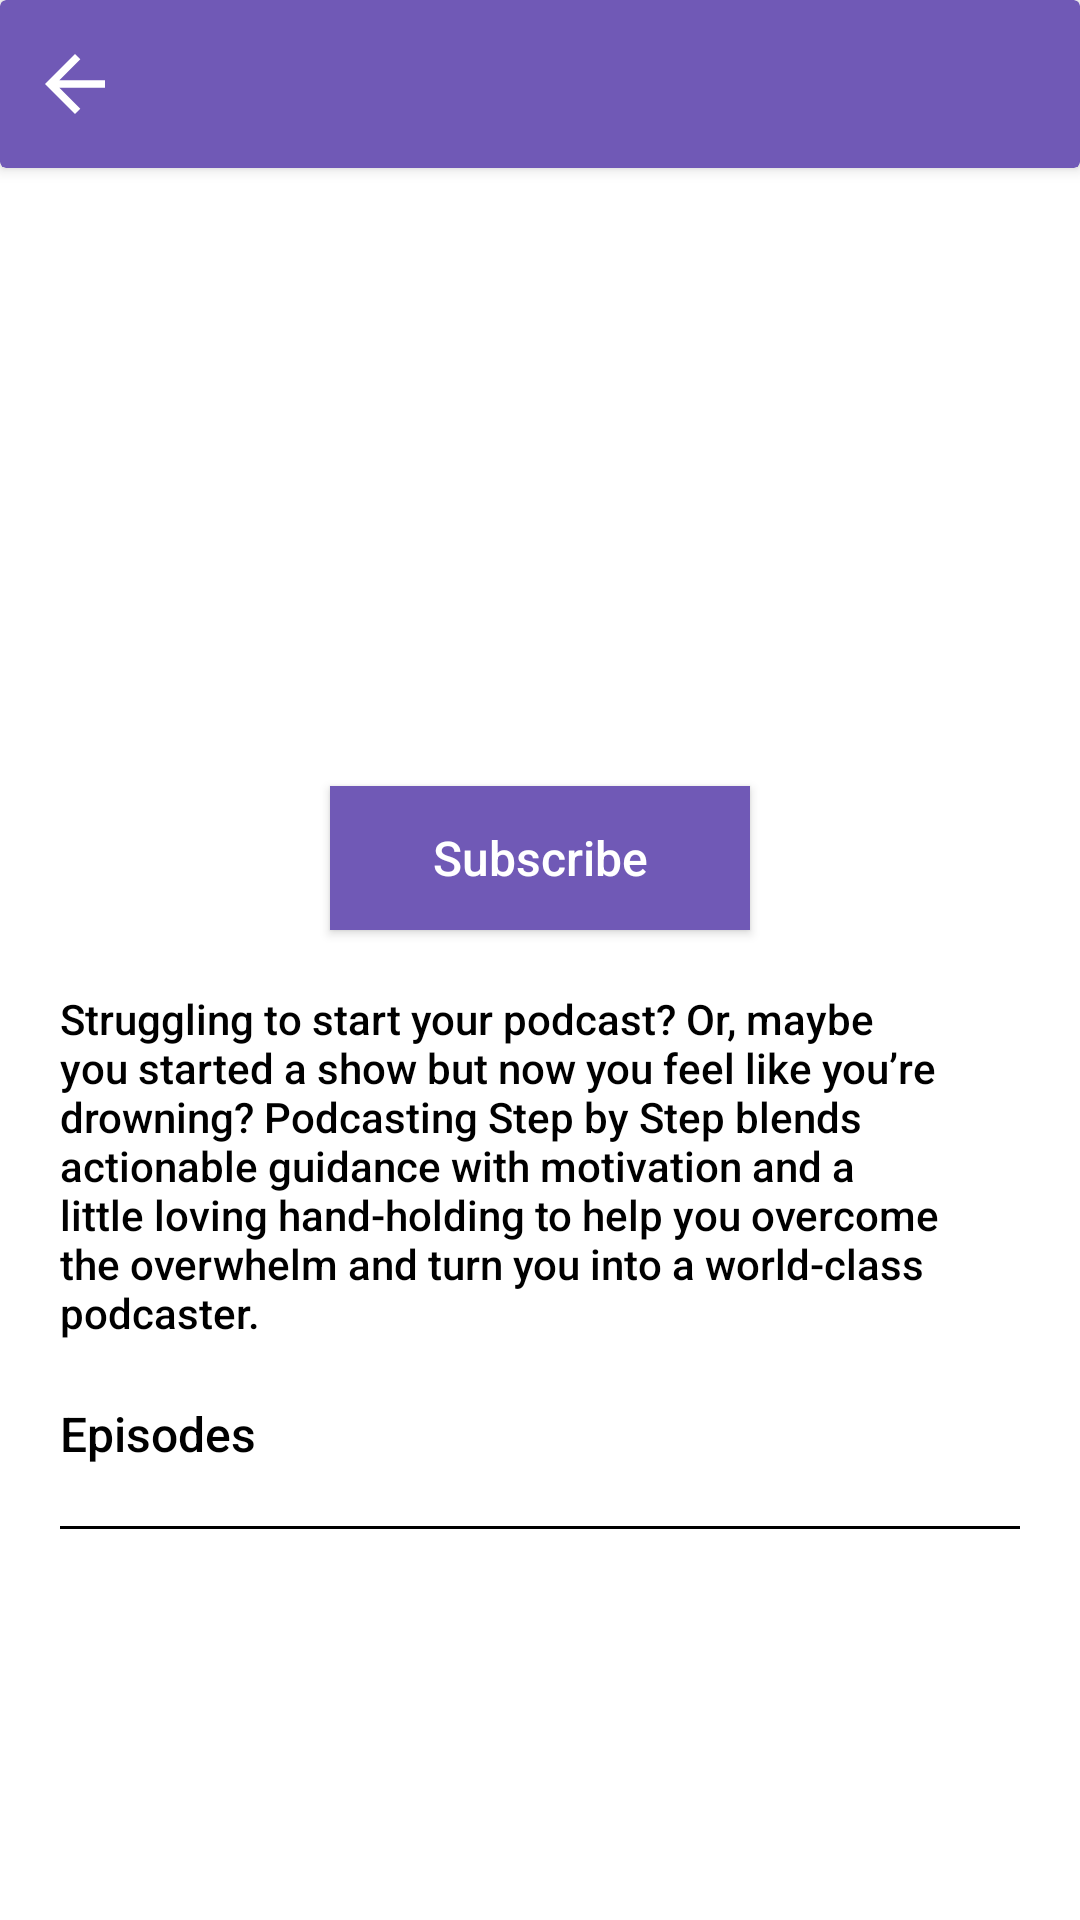

Where to tap for icons on this 1080px×1920px app screen, as (x,y):
back arrow: (75,84)
